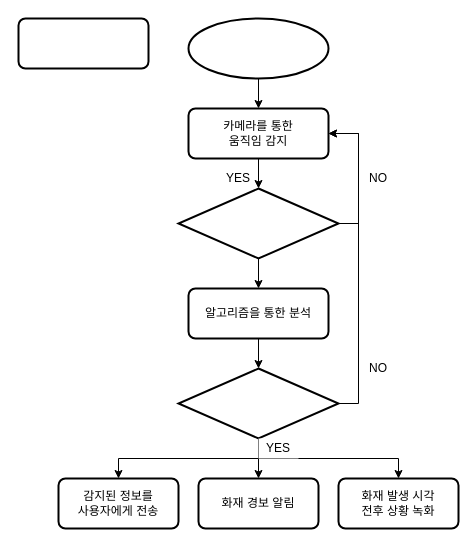
This 476x546 diagram has some shape labels left out. The centre of each missing label's shape, as x and y in pixels:
CNN을 통한 화재 데이터 딥러닝: (83,43)
불꽃이나 연기가 감지되었는가?: (258,223)
화재 발생: (258,48)
화재가 발생했는가?: (258,403)
